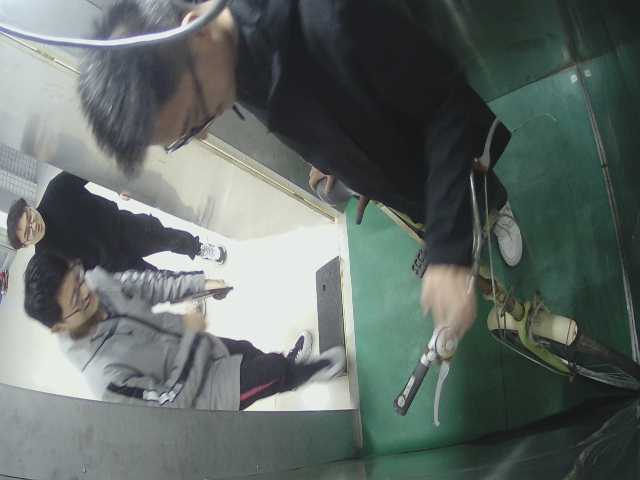bicycle: (304, 147, 640, 408)
person: (76, 2, 526, 270), (24, 255, 352, 411), (8, 169, 229, 309)
